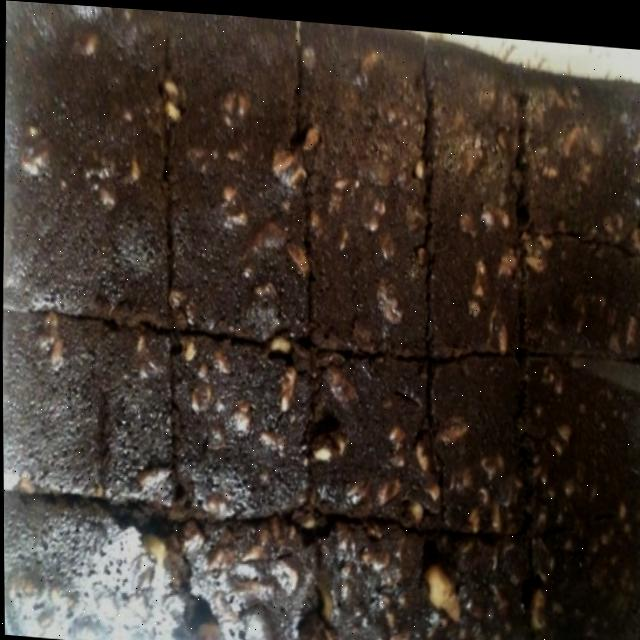蛋糕甜品: (0, 18, 640, 640)
